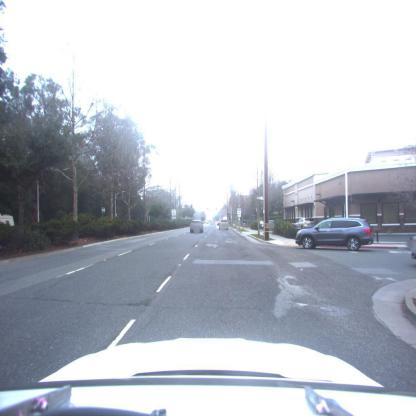car: (295, 219, 373, 252), (293, 216, 315, 231), (189, 221, 205, 234), (218, 218, 229, 230)
